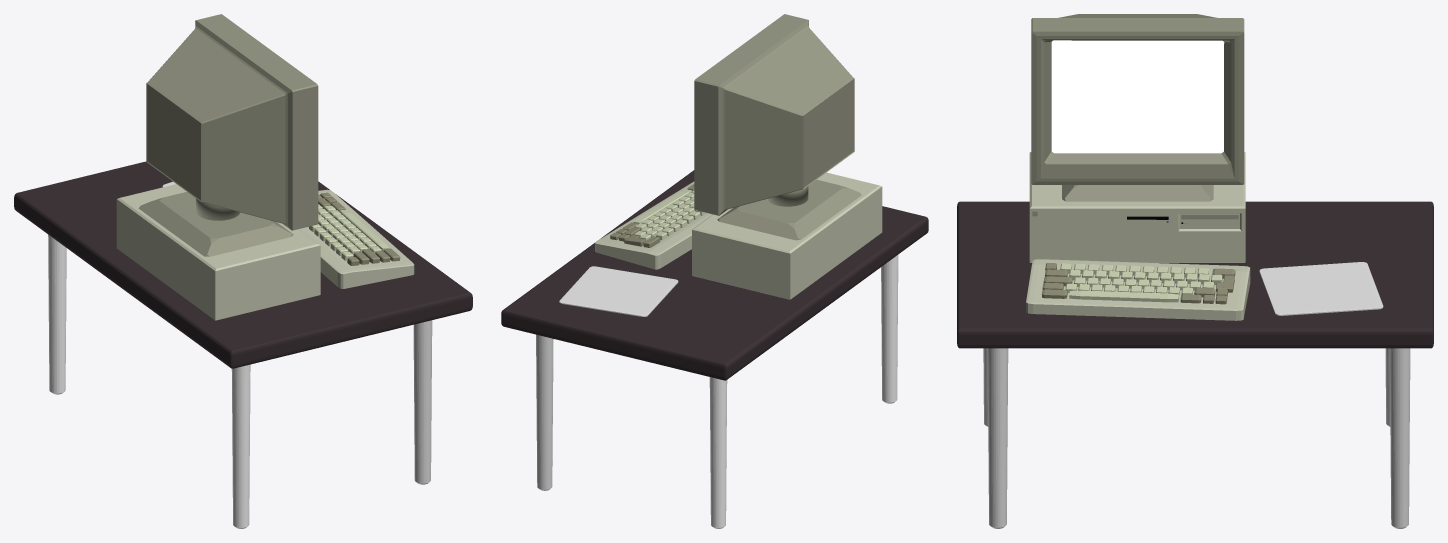
File: include_all_objects_v01.glb
3 renders of one model, left to right at view 1: azimuth 30°, elevation 25°; view 2: azimuth 150°, elevation 25°; view 3: azimuth 270°, elevation 25°, orthographic. The views are drawn at different scales.
Parts seen in each view (by area): view 1: CRT Monitor, Table Top, Computer Frame, CRT Base, Leg 1, Leg 0, Keyboard Base, Leg 3, CRT Leg; view 2: Table Top, CRT Monitor, Computer Frame, CRT Base, Mousepad, Leg 2, Keyboard Base, Leg 3, Leg 0, CRT Leg; view 3: Table Top, CRT Monitor Screen, CRT Monitor, Computer Frame, Keyboard Base, Mousepad, Leg 2, Leg 1, CRT Base, spacebar.
Boxes of the visible parts, box(x1,y1,x2,y2) form: CRT Monitor: box(146, 14, 318, 230); Table Top: box(14, 161, 472, 368); Computer Frame: box(116, 184, 320, 320); CRT Base: box(138, 192, 293, 256); Leg 1: box(413, 320, 432, 484); Leg 0: box(231, 364, 250, 528); Keyboard Base: box(299, 189, 414, 288); Leg 3: box(48, 234, 66, 394); CRT Leg: box(196, 198, 240, 220); Table Top: box(501, 170, 928, 380); CRT Monitor: box(694, 14, 854, 215); Computer Frame: box(692, 172, 882, 299); CRT Base: box(717, 180, 861, 240); Mousepad: box(559, 266, 678, 316); Leg 2: box(536, 334, 553, 490); Keyboard Base: box(595, 181, 712, 269); Leg 3: box(709, 377, 727, 528); Leg 0: box(881, 255, 898, 403); CRT Leg: box(767, 186, 808, 206); Table Top: box(957, 201, 1433, 348); CRT Monitor Screen: box(1051, 40, 1224, 153); CRT Monitor: box(1031, 14, 1244, 184); Computer Frame: box(1029, 152, 1245, 262); Keyboard Base: box(1026, 259, 1250, 320); Mousepad: box(1259, 262, 1383, 315); Leg 2: box(1389, 348, 1410, 528); Leg 1: box(987, 348, 1008, 528); CRT Base: box(1062, 185, 1213, 201); spacebar: box(1069, 290, 1178, 302).
Size of the model in its own units: 2.99 by 4.8 by 4.65.
